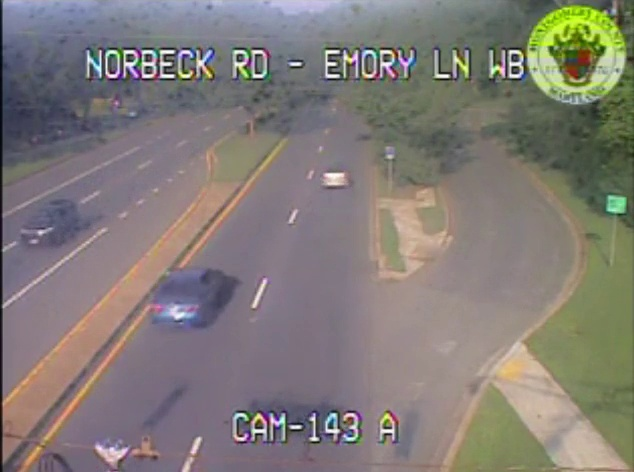car: (148, 271, 225, 323), (320, 167, 349, 186)
